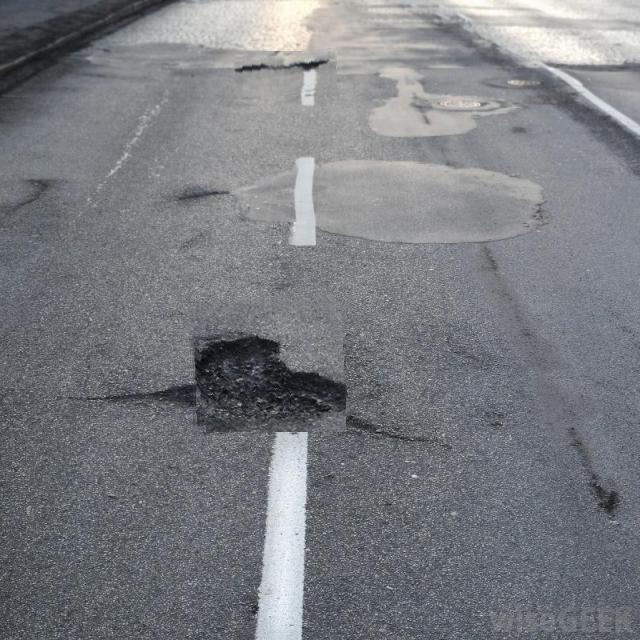Pothole: (189, 295, 346, 432), (234, 51, 337, 96)
